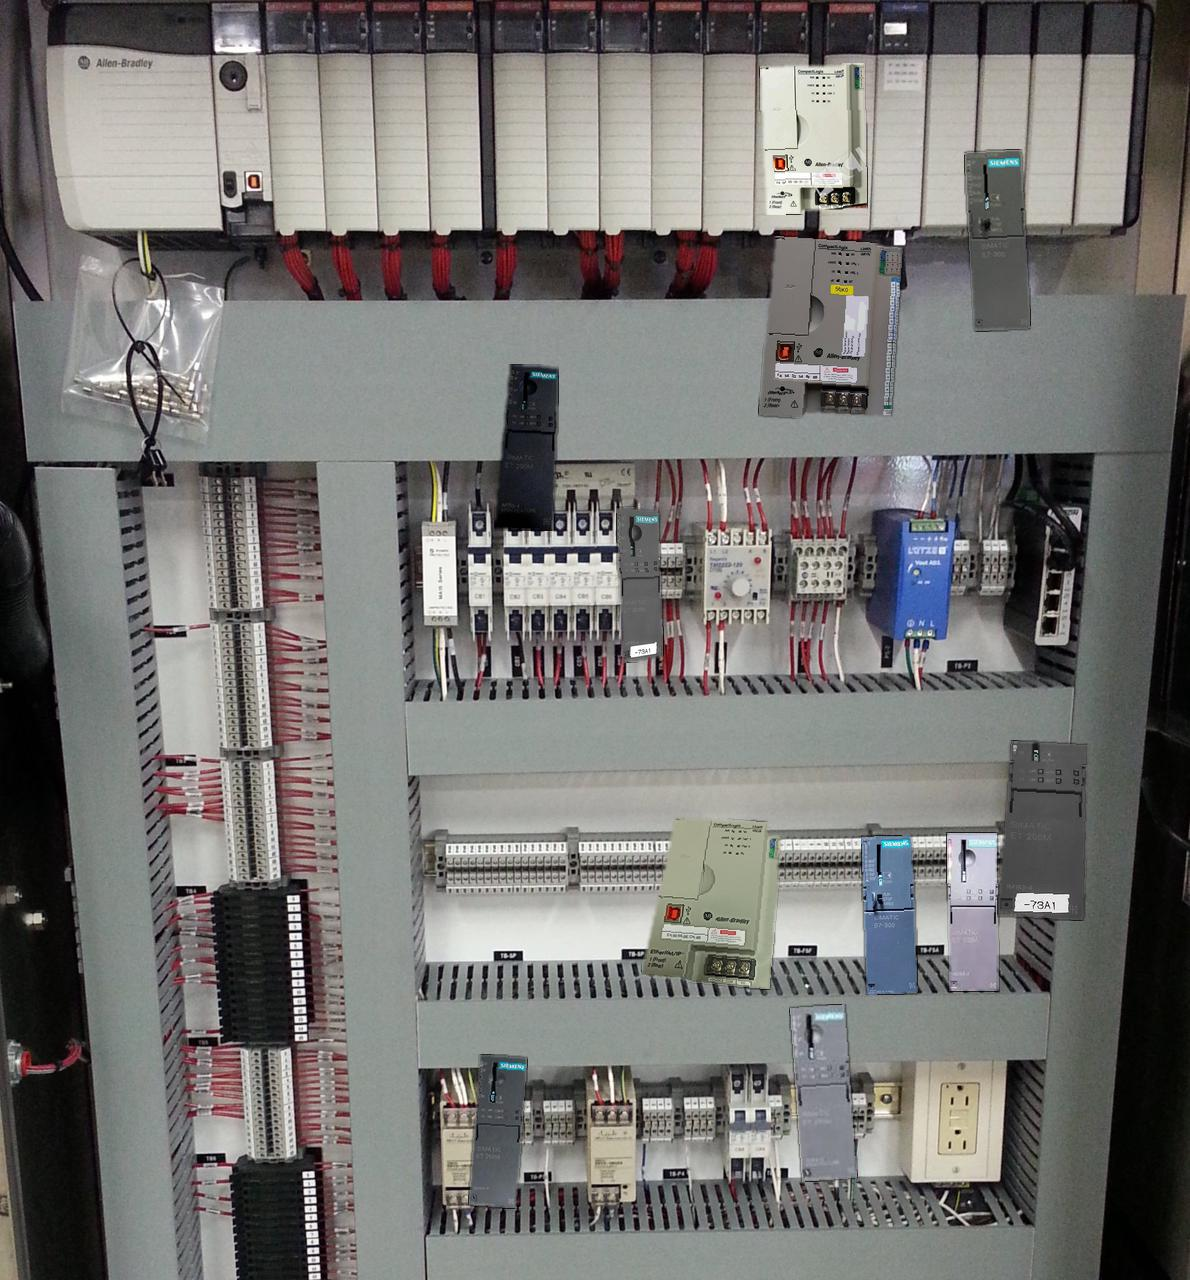AllenBradley: (759, 236, 901, 417), (641, 817, 780, 988), (761, 63, 866, 214)
Siemens: (964, 150, 1030, 330), (861, 835, 917, 994)
